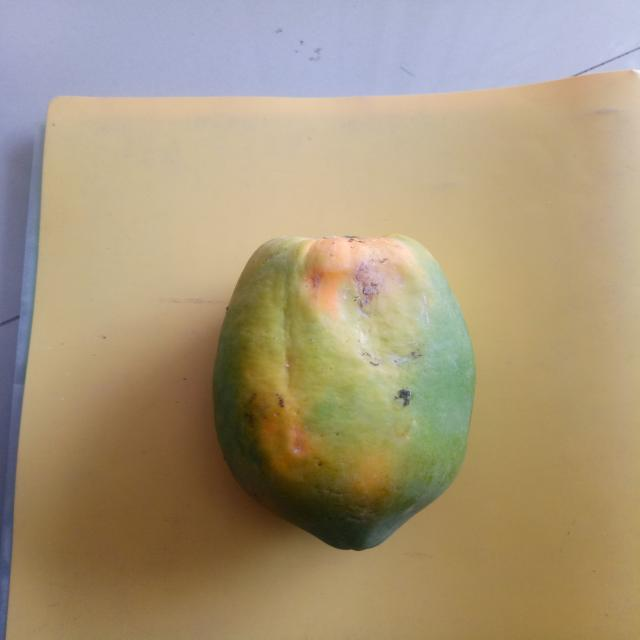Pepaya rippen: (208, 226, 476, 556)
